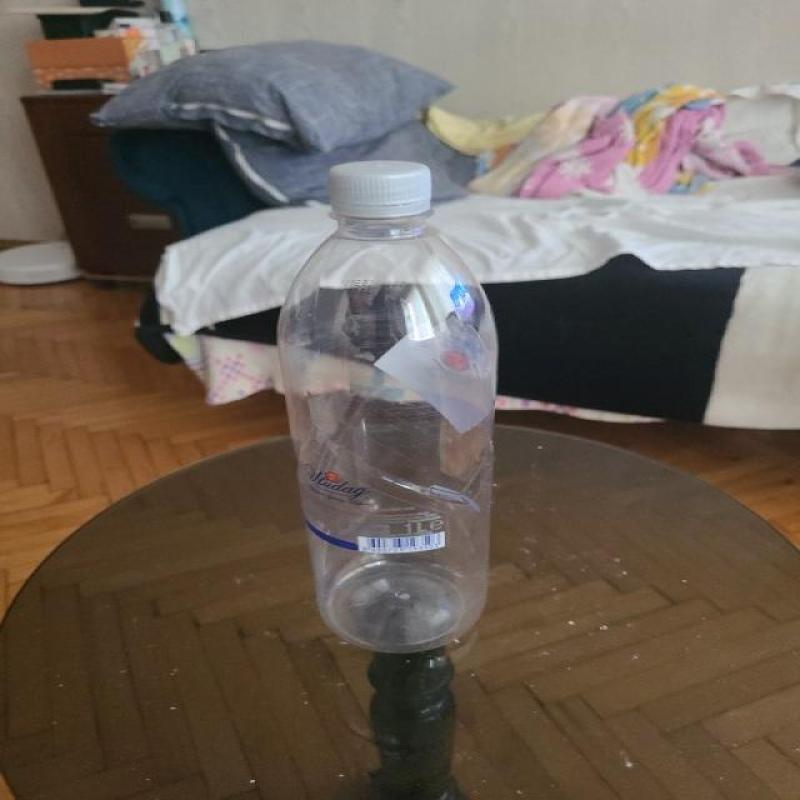botella: (279, 160, 500, 652)
